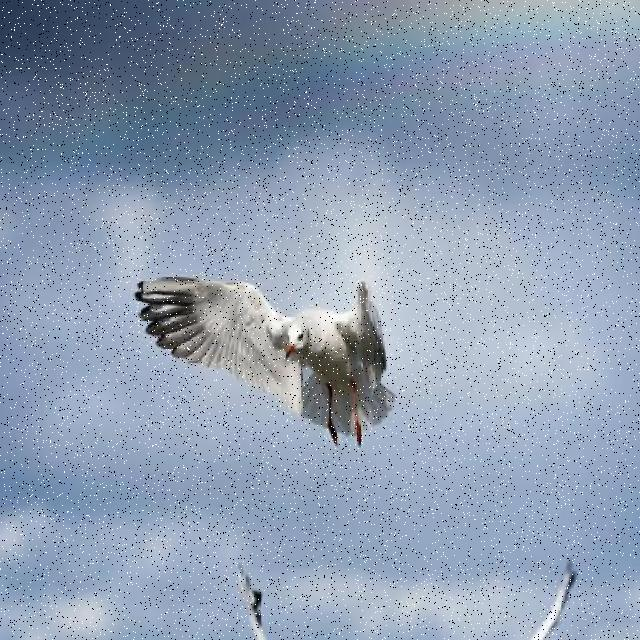bird: (135, 274, 397, 448)
